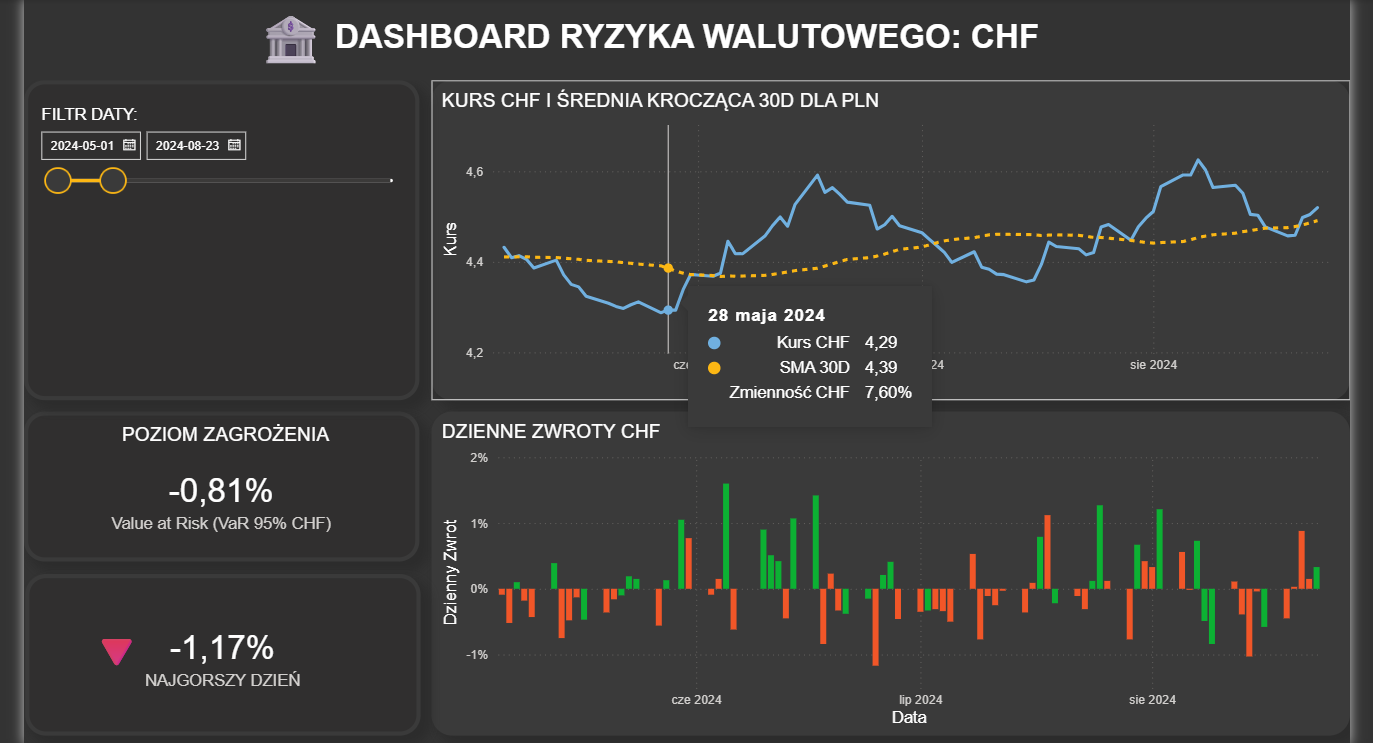

The dashboard page shown, as its layout file describes it:
{"tool":"powerbi","page":{"name":"CHF","canvas":[1280,720],"ordinal":2},"visuals":[{"type":"lineChart","title":"KURS CHF I ŚREDNIA KROCZĄCA 30D DLA PLN","fields":{"Category":["dane_walutowe_do_powerbi.Data"],"Y":["Sum(dane_walutowe_do_powerbi.Kurs CHF)","Sum(dane_walutowe_do_powerbi.SMA 30D CHF)"]},"box":[393.3,78.4,886.7,308.8],"z":0},{"type":"card","title":"POZIOM ZAGROŻENIA","fields":{"Values":["Avg(dane_walutowe_do_powerbi.VaR 95% CHF)"]},"box":[0,398.1,381.2,144.8],"z":1000},{"type":"clusteredColumnChart","title":"DZIENNE ZWROTY CHF","fields":{"Category":["dane_walutowe_do_powerbi.Data"],"Y":["Sum(dane_walutowe_do_powerbi.Dzienny Zwrot CHF)"]},"box":[393.3,398.1,886.7,312.5],"z":2000},{"type":"slicer","fields":{"Values":["dane_walutowe_do_powerbi.Data"]},"box":[0,78.4,381.2,308.8],"z":3000},{"type":"textbox","box":[0,0,1280,78.4],"z":4000},{"type":"textbox","box":[219.6,0,72.4,78.4],"z":5000},{"type":"card","title":"MAKSYMALNA STRATA W DANYM DNIU:","fields":{"Values":["Min(dane_walutowe_do_powerbi.Dzienny Zwrot CHF)"]},"box":[1.2,555,381.2,155.6],"z":6000},{"type":"textbox","box":[43.4,583.9,97.7,98.9],"z":7000}]}

Visuals, with their boxes on the page's 1280x720 design canvas (x1, y1, x2, y2). These are canvas units, not pixel positions in the 1373x743 screenshot, which may show the page scaled, cropped or inside an application window:
"KURS CHF I ŚREDNIA KROCZĄCA 30D DLA PLN" lineChart: crop(393, 78, 1280, 387)
"POZIOM ZAGROŻENIA" card: crop(0, 398, 381, 543)
"DZIENNE ZWROTY CHF" clusteredColumnChart: crop(393, 398, 1280, 711)
slicer - dane_walutowe_do_powerbi.Data: crop(0, 78, 381, 387)
textbox: crop(0, 0, 1280, 78)
textbox: crop(220, 0, 292, 78)
"MAKSYMALNA STRATA W DANYM DNIU:" card: crop(1, 555, 382, 711)
textbox: crop(43, 584, 141, 683)
